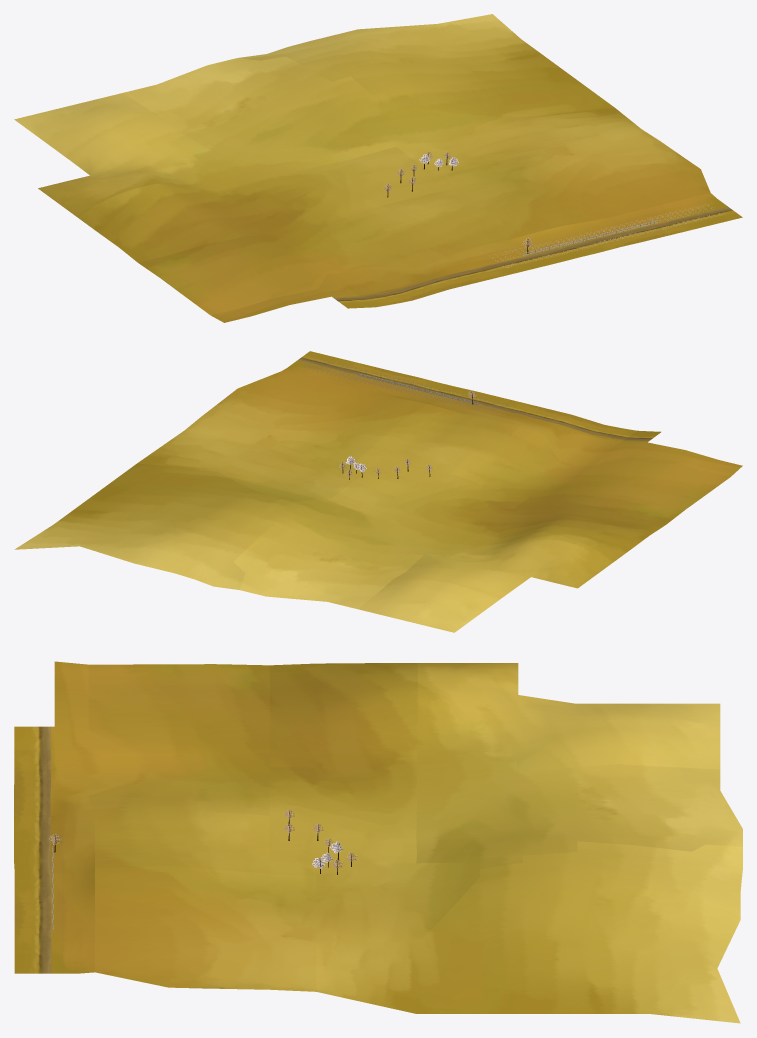
File: ta_outside.fbx
3 renders of one model, top to bottom at view 1: azimuth 30°, elevation 25°; view 2: azimuth 150°, elevation 25°; view 3: azimuth 270°, elevation 25°, orthographic. The views are drawn at different scales.
Visible parts, largest first — view 1: Plane.007, Plane.006, Plane.015, Plane.008, Plane.009, Plane.011, Plane.012, Plane.010, Plane.013, Plane.014, Plane.001, Plane.017 (+3 smaller); view 2: Plane.006, Plane.007, Plane.008, Plane.015, Plane.011, Plane.010, Plane.012, Plane.009, Plane.014, Plane.013, Plane.001, Plane.017 (+3 smaller); view 3: Plane.006, Plane.007, Plane.015, Plane.008, Plane.011, Plane.009, Plane.012, Plane.010, Plane.014, Plane.013, Plane.001, Plane.017 (+2 smaller).
Boxes of the visible parts, x1,y1,x2,y2 form: Plane.007: [123, 56, 400, 186]; Plane.006: [238, 14, 614, 117]; Plane.015: [458, 129, 710, 229]; Plane.008: [14, 93, 231, 217]; Plane.009: [78, 182, 290, 262]; Plane.011: [389, 107, 640, 175]; Plane.012: [138, 234, 326, 315]; Plane.010: [251, 147, 454, 231]; Plane.013: [273, 206, 452, 274]; Plane.014: [381, 171, 545, 254]; Plane.001: [547, 193, 742, 257]; Plane.017: [327, 255, 483, 307]; Plane.006: [14, 463, 280, 589]; Plane.007: [234, 498, 476, 609]; Plane.008: [358, 532, 613, 632]; Plane.015: [185, 371, 426, 467]; Plane.011: [137, 430, 366, 501]; Plane.010: [332, 458, 529, 530]; Plane.012: [546, 453, 730, 524]; Plane.009: [461, 497, 665, 561]; Plane.014: [349, 404, 511, 473]; Plane.013: [450, 425, 593, 499]; Plane.001: [282, 351, 455, 403]; Plane.017: [513, 407, 636, 465]; Plane.006: [416, 841, 742, 1023]; Plane.007: [416, 761, 742, 869]; Plane.015: [95, 865, 316, 991]; Plane.008: [417, 663, 720, 772]; Plane.011: [316, 862, 479, 1013]; Plane.009: [269, 663, 417, 777]; Plane.012: [88, 664, 269, 753]; Plane.010: [269, 766, 416, 863]; Plane.014: [93, 812, 316, 875]; Plane.013: [89, 753, 269, 815]; Plane.001: [14, 868, 94, 973]; Plane.017: [14, 750, 140, 815].
Size of the model in its own units: 8655 by 597 by 8064.
